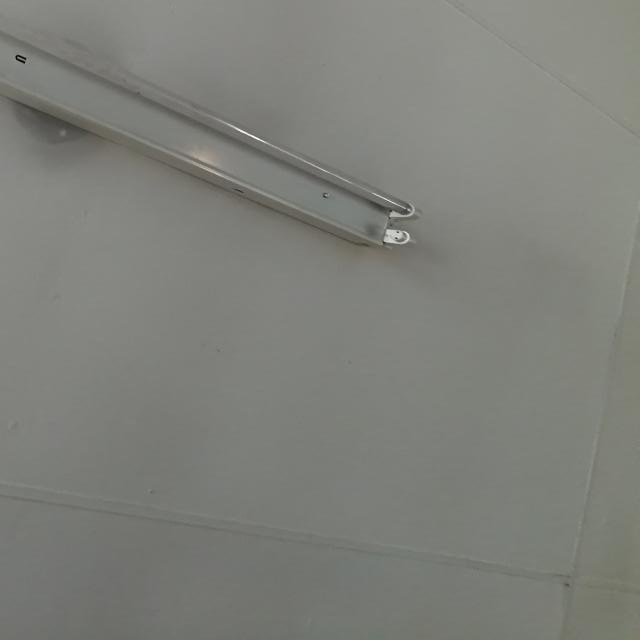fluorescent tube: (0, 0, 442, 263)
